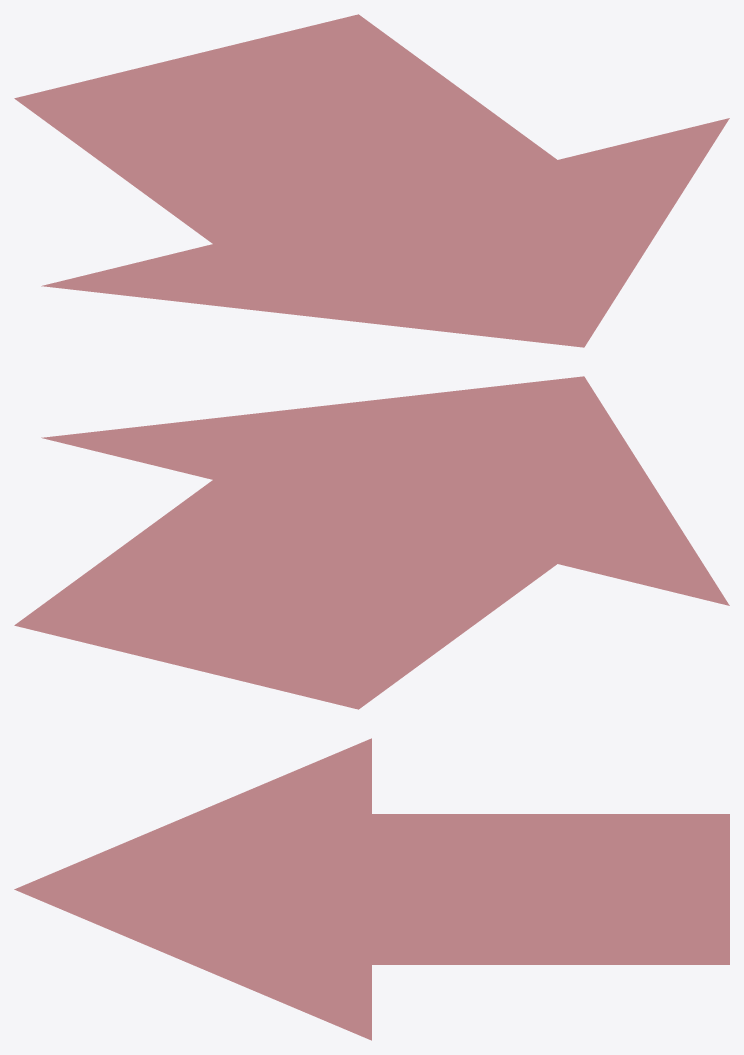
File: strelka.fbx
3 views of the same model, one above another, from view 1: azimuth 30°, elevation 25°; view 2: azimuth 150°, elevation 25°; view 3: azimuth 270°, elevation 25° (orthographic). The views are drawn at different scales.
Parts seen in each view (by area): view 1: Plane; view 2: Plane; view 3: Plane.
Boxes of the visible parts, <box> form: Plane: <box>14,14,729,347</box>; Plane: <box>14,376,729,709</box>; Plane: <box>14,738,729,1040</box>.
Bounding box in the file's own units: 1 × 1.63e-07 × 1.
